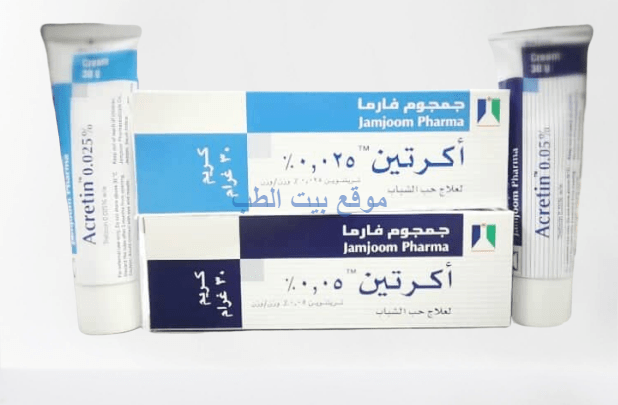Medicine: (126, 83, 512, 211), (138, 207, 518, 329), (38, 16, 149, 343), (482, 24, 596, 334)
